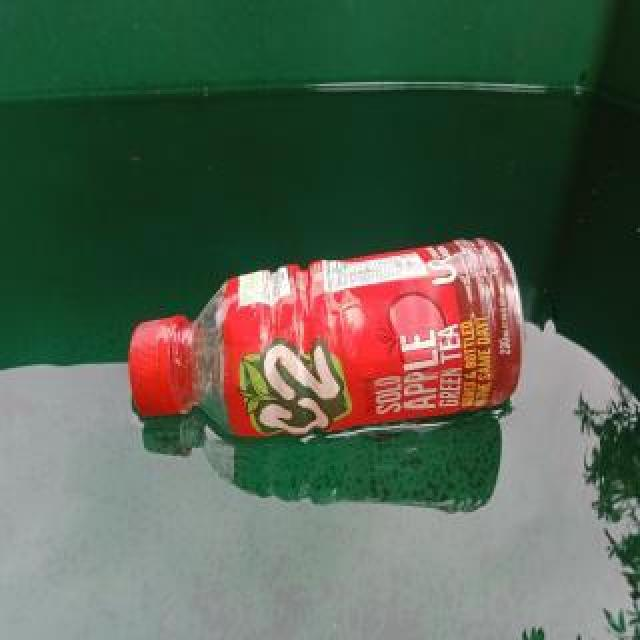bottle: (126, 232, 528, 440), (126, 233, 528, 439)
